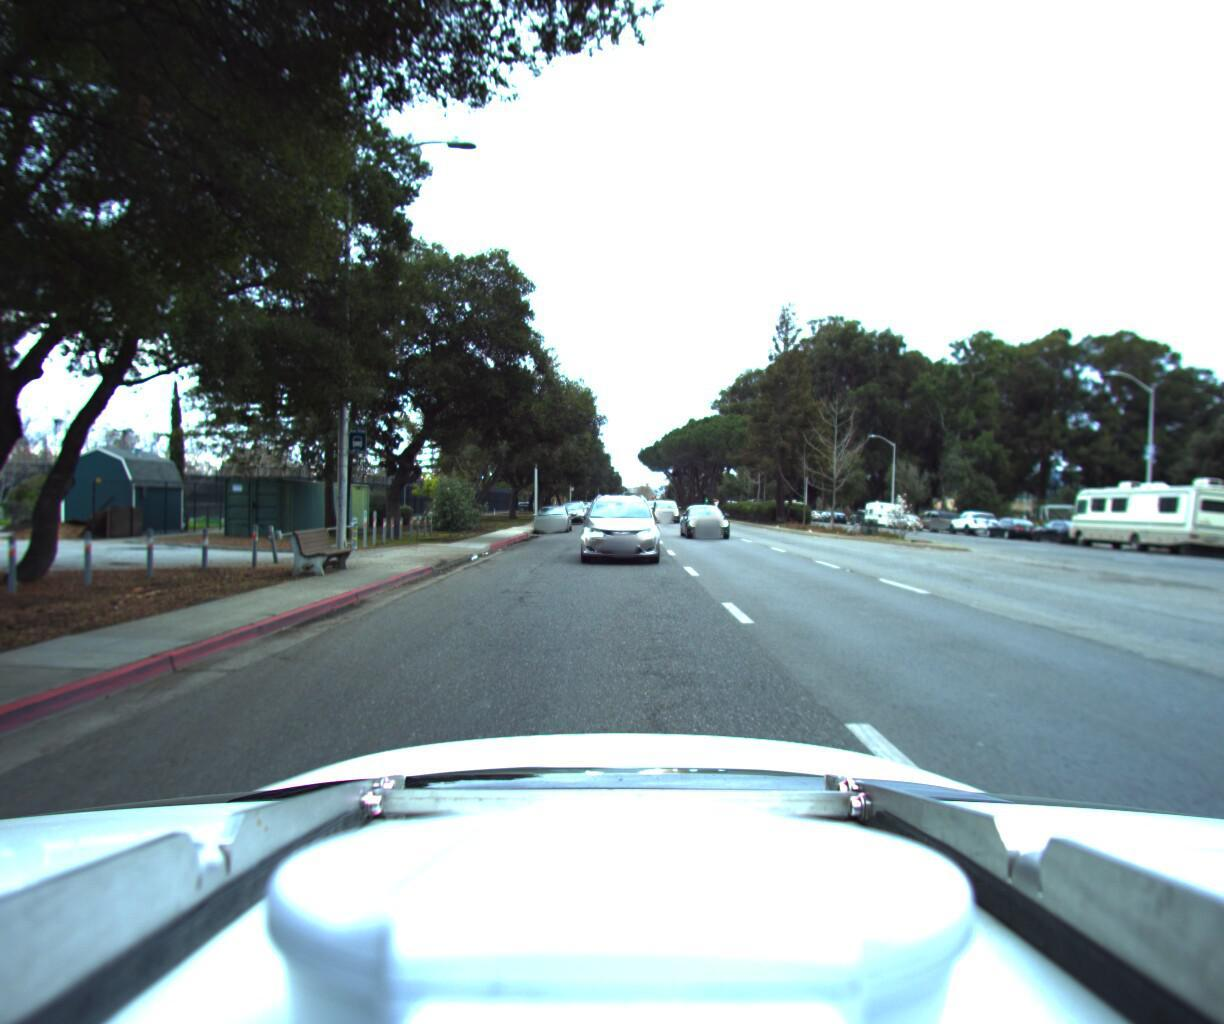car: (577, 484, 662, 563), (678, 499, 735, 537), (982, 509, 1040, 536), (946, 504, 1001, 532), (529, 498, 573, 530), (913, 501, 963, 529), (652, 490, 681, 518), (558, 497, 586, 521)
other_vehicle: (1066, 475, 1224, 552), (861, 495, 906, 521)
